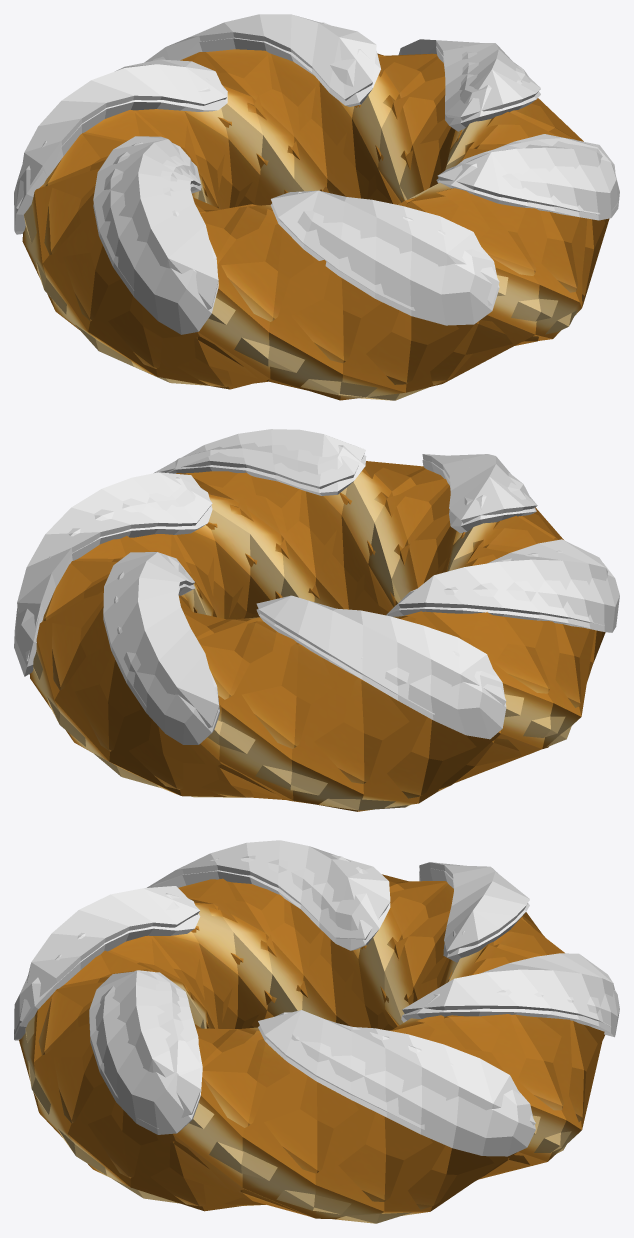
Rendered from Donut_Twist.fbx.
3 views of the same model, one above another, from view 1: azimuth 30°, elevation 25°; view 2: azimuth 150°, elevation 25°; view 3: azimuth 270°, elevation 25° (orthographic).
Visible parts, largest first — view 1: Donut_Twist, Twist_Choco_Rough, Donut_Twist_Rough, Twist_Choco; view 2: Donut_Twist, Twist_Choco_Rough, Donut_Twist_Rough, Twist_Choco; view 3: Donut_Twist, Twist_Choco_Rough, Donut_Twist_Rough, Twist_Choco.
Part boxes in pixels (box(x1,y1,x2,y2)): Donut_Twist: box(24, 49, 605, 400); Twist_Choco_Rough: box(16, 14, 618, 310); Donut_Twist_Rough: box(22, 52, 609, 400); Twist_Choco: box(14, 22, 619, 334); Donut_Twist: box(33, 467, 601, 810); Twist_Choco_Rough: box(17, 429, 607, 728); Donut_Twist_Rough: box(29, 461, 605, 811); Twist_Choco: box(14, 442, 619, 744); Donut_Twist: box(25, 879, 597, 1223); Twist_Choco_Rough: box(14, 840, 614, 1129); Donut_Twist_Rough: box(19, 874, 604, 1219); Twist_Choco: box(14, 855, 619, 1156).
Size of the model in its own units: 10.42 by 10.72 by 3.98.
